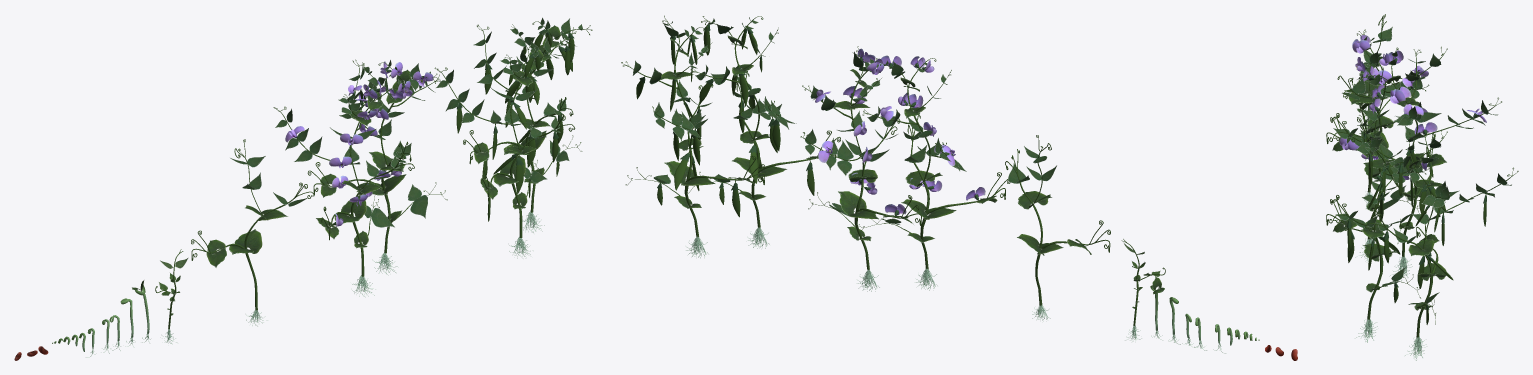
Rendered from Bean_Lifecycle.glb.
The picture shows the model from 3 angles, left to right: view 1: azimuth 30°, elevation 25°; view 2: azimuth 150°, elevation 25°; view 3: azimuth 270°, elevation 25°; orthographic projection. The views are drawn at different scales.
Visible parts, largest first — view 1: Bean_6, Bean_5, Bean_4, Bean_3; view 2: Bean_5, Bean_6, Bean_4; view 3: Bean_6, Bean_5, Bean_4, Root_5_2, Root_5_3.
Part boxes in pixels (x1,y1,x2,y2): Bean_6: (434, 17, 592, 237); Bean_5: (273, 59, 447, 276); Bean_4: (191, 139, 314, 310); Bean_3: (155, 249, 188, 329); Bean_5: (800, 46, 1010, 269); Bean_6: (621, 15, 840, 236); Bean_4: (1005, 135, 1110, 305); Bean_6: (1326, 113, 1518, 337); Bean_5: (1326, 29, 1501, 256); Bean_4: (1337, 14, 1395, 192); Root_5_2: (1355, 318, 1377, 342); Root_5_3: (1405, 336, 1426, 360).
Bounding box in the file's own units: 0.8767 × 0.3121 × 0.2316.
1 material, 1 textured.
